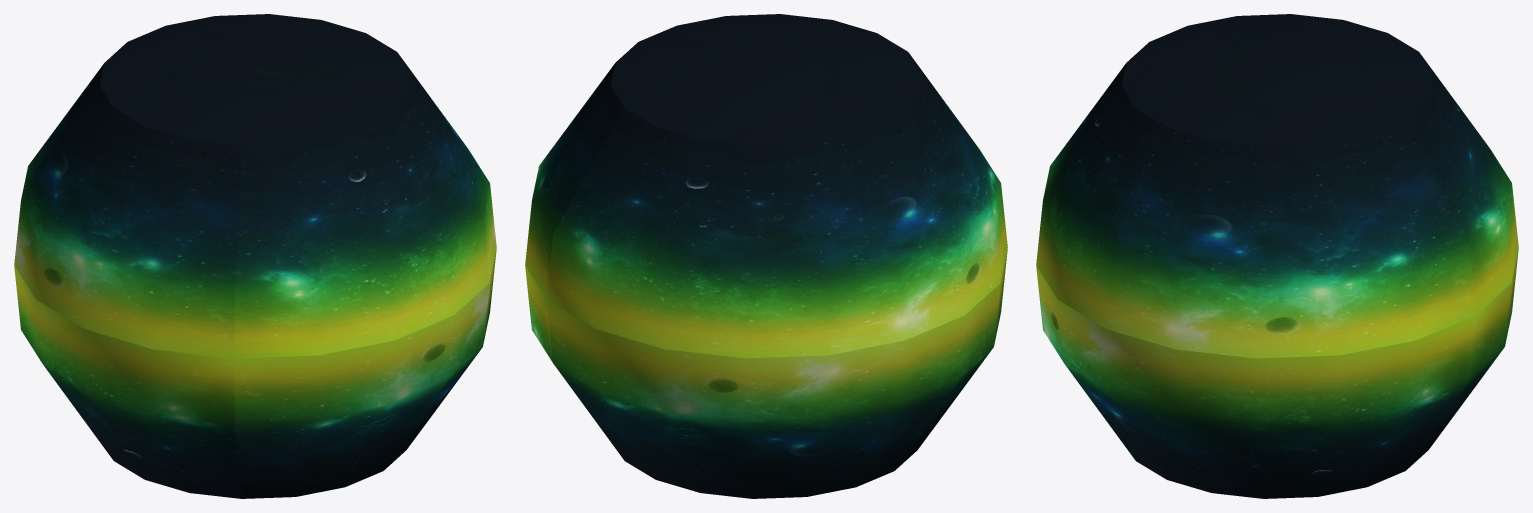
Rendered from stage.glb.
3 views of the same model, side by side, from view 1: azimuth 30°, elevation 25°; view 2: azimuth 150°, elevation 25°; view 3: azimuth 270°, elevation 25° (orthographic).
Parts seen in each view (by area): view 1: KORE_export_Other World Tournament_mesh; view 2: KORE_export_Other World Tournament_mesh; view 3: KORE_export_Other World Tournament_mesh.
Boxes of the visible parts, x1,y1,x2,y2 form: KORE_export_Other World Tournament_mesh: (14, 14, 496, 498); KORE_export_Other World Tournament_mesh: (525, 14, 1007, 498); KORE_export_Other World Tournament_mesh: (1036, 14, 1518, 498).
Bounding box in the file's own units: 224 × 211 × 224.
10 materials, 10 textured.
